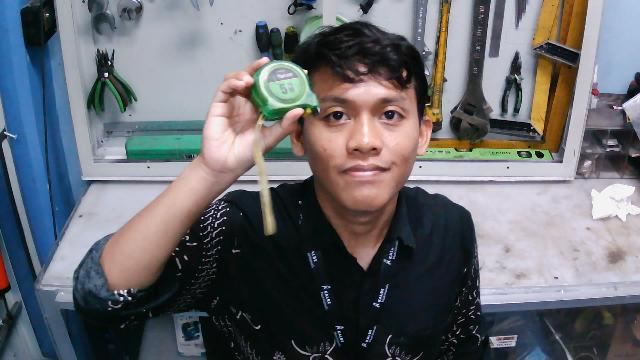meteran: (246, 58, 322, 132)
